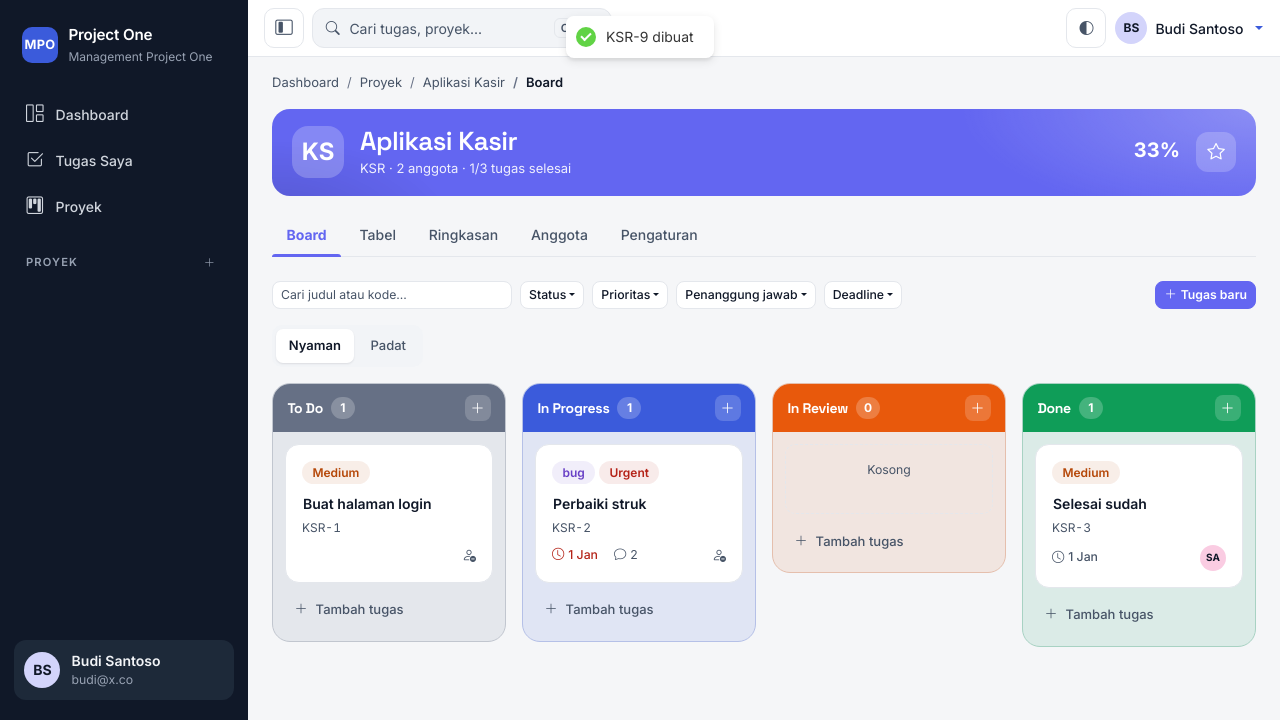
Test: board › deadline sebelum tanggal mulai ditolak di klien
This screenshot has width=1280, height=720.
Click the button "Tugas baru" at (1206, 295), box [1155, 281, 1256, 309]
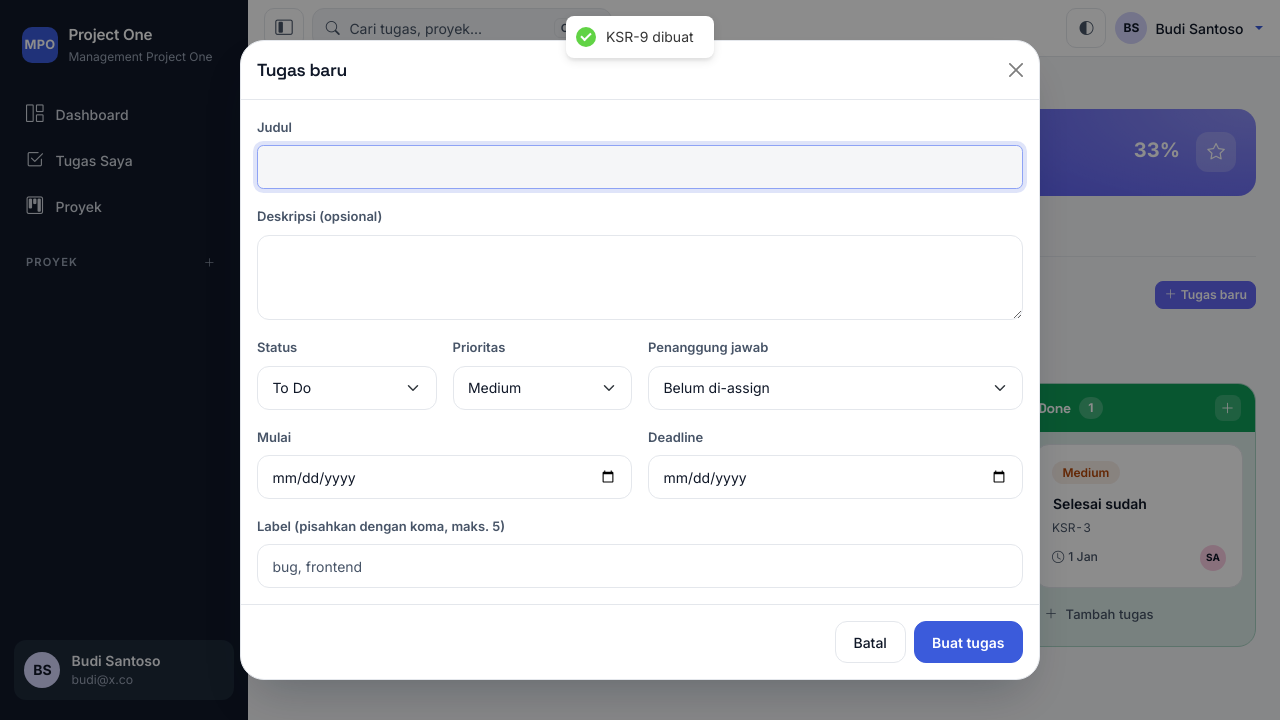
Type "X" into the field labelled "Judul" at (640, 167), box [257, 145, 1023, 189]
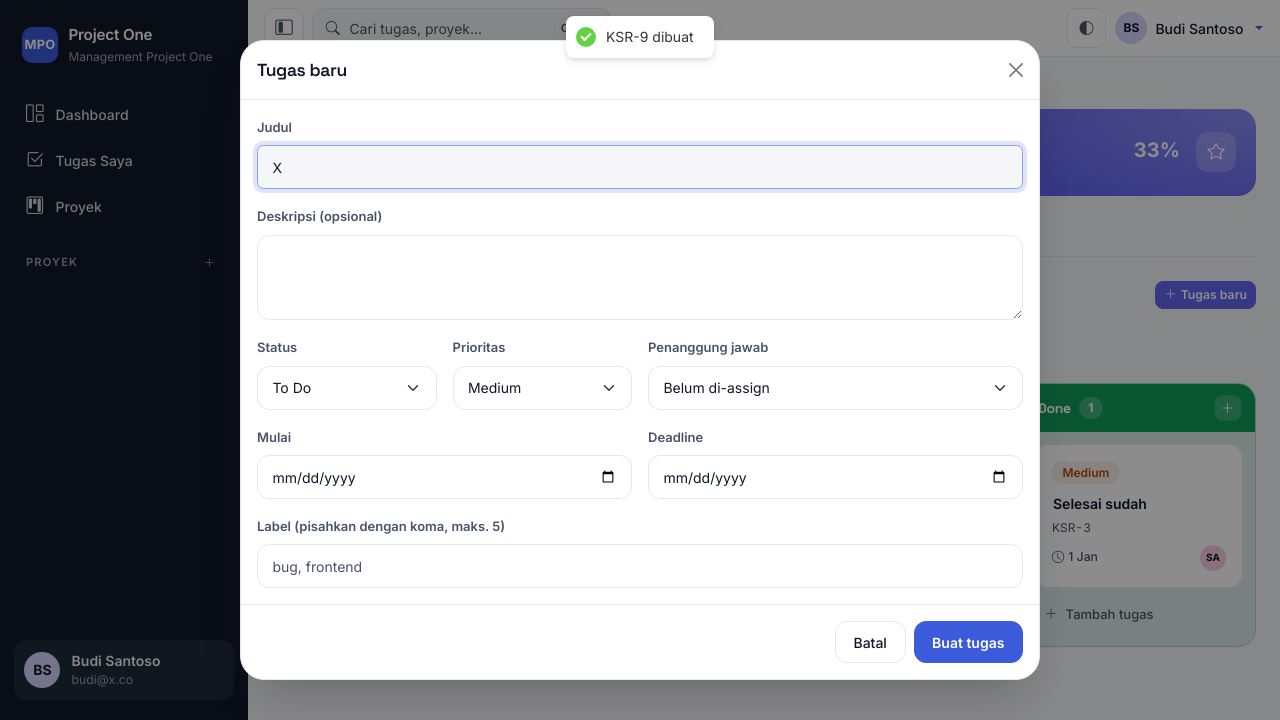
Type "2026-11-20" into the date field labelled "Mulai" at (444, 477), box [257, 455, 632, 499]
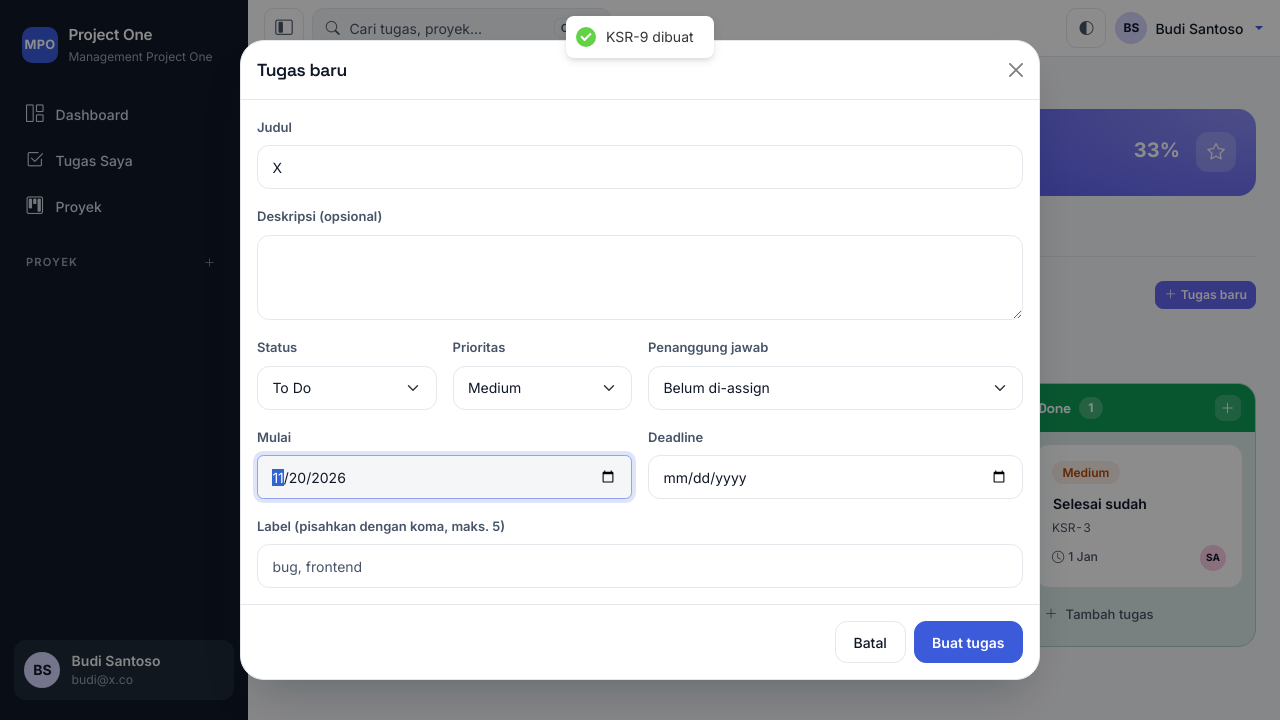
Type "2026-11-10" into the date field labelled "Deadline" at (836, 477), box [648, 455, 1023, 499]
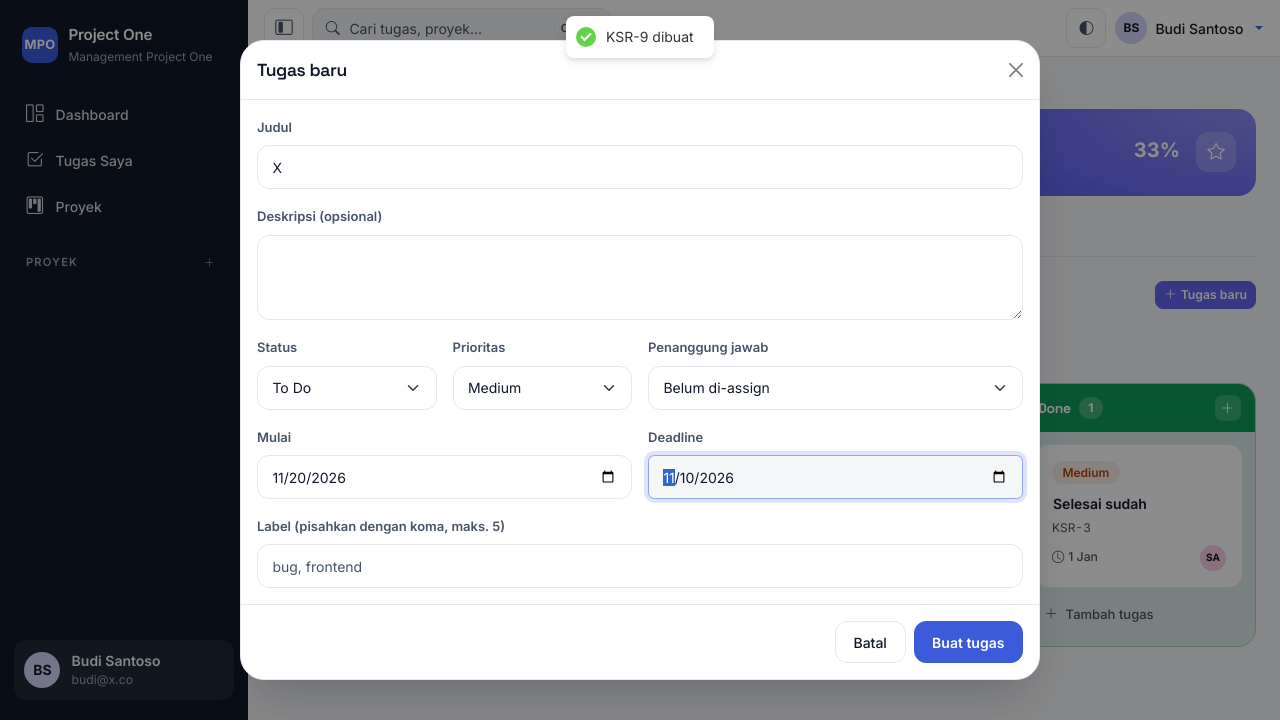
Click the button "Buat tugas" at (968, 642), box [914, 621, 1023, 663]
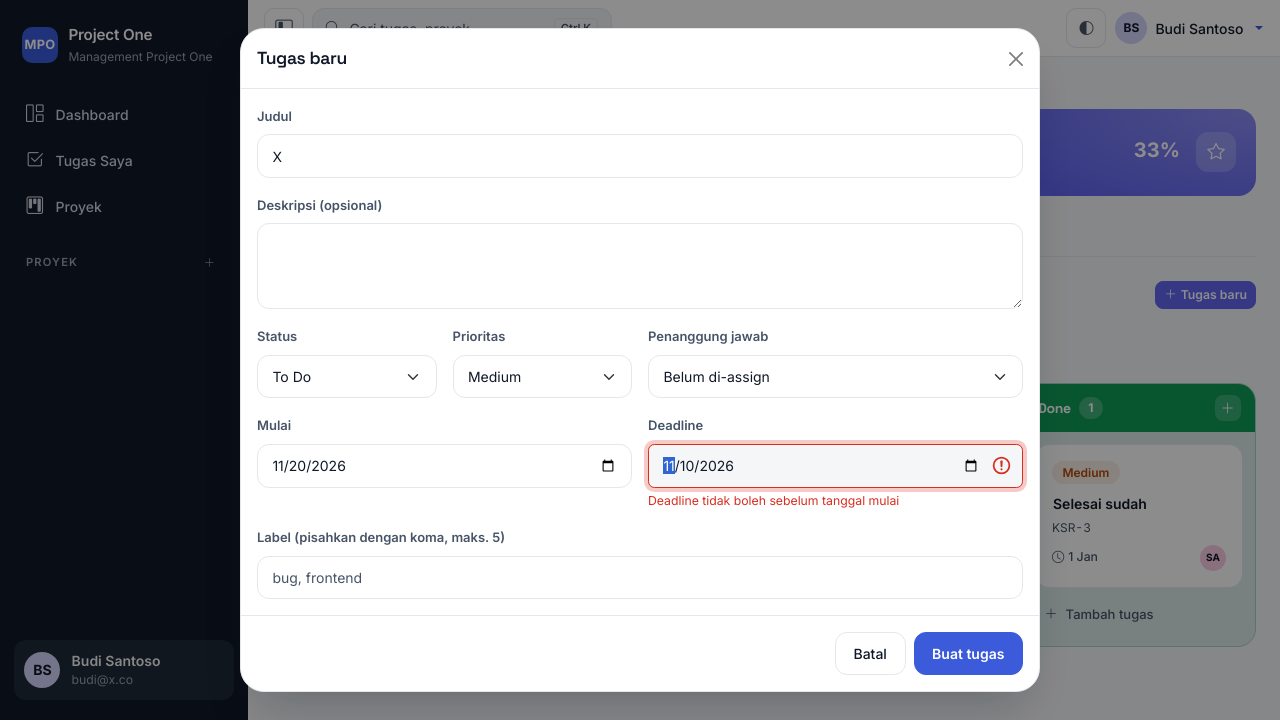
expect the text "Deadline tidak boleh sebelum tanggal mulai" is shown: met, box [648, 493, 899, 508]
